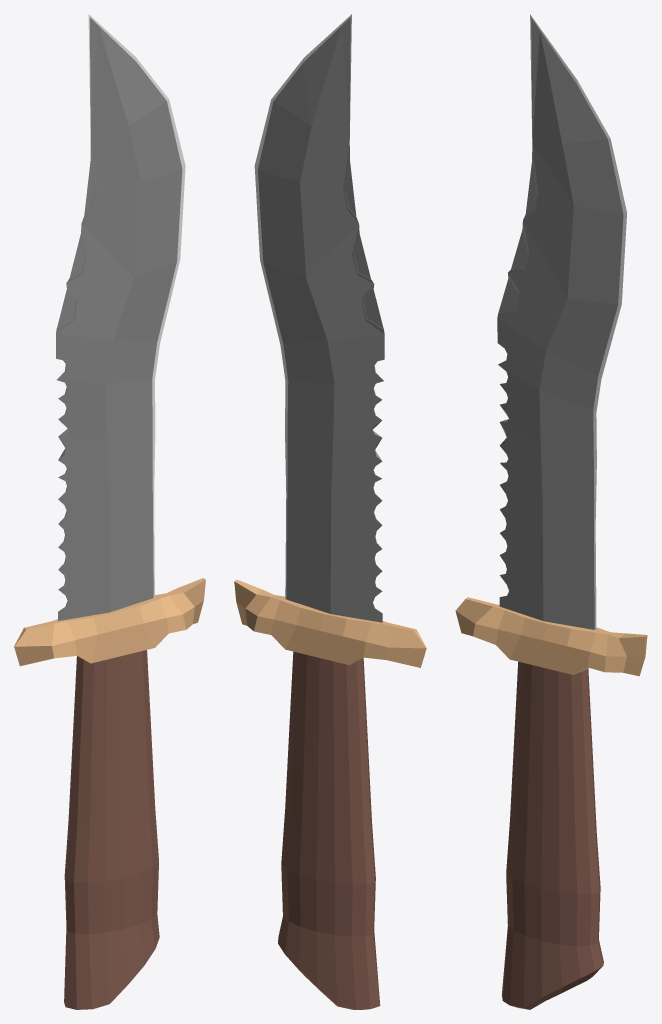
The model's file is dagger.fbx.
The picture shows the model from 3 angles, left to right: view 1: azimuth 30°, elevation 25°; view 2: azimuth 150°, elevation 25°; view 3: azimuth 330°, elevation 25°; orthographic projection.
Visible parts, largest first — view 1: Cylinder; view 2: Cylinder; view 3: Cylinder.
Part boxes in pixels (box(x1,y1,x2,y2)): Cylinder: box(14, 14, 205, 1009); Cylinder: box(234, 14, 426, 1009); Cylinder: box(455, 14, 647, 1009).
Size of the model in its own units: 238 by 1182 by 60.93.
